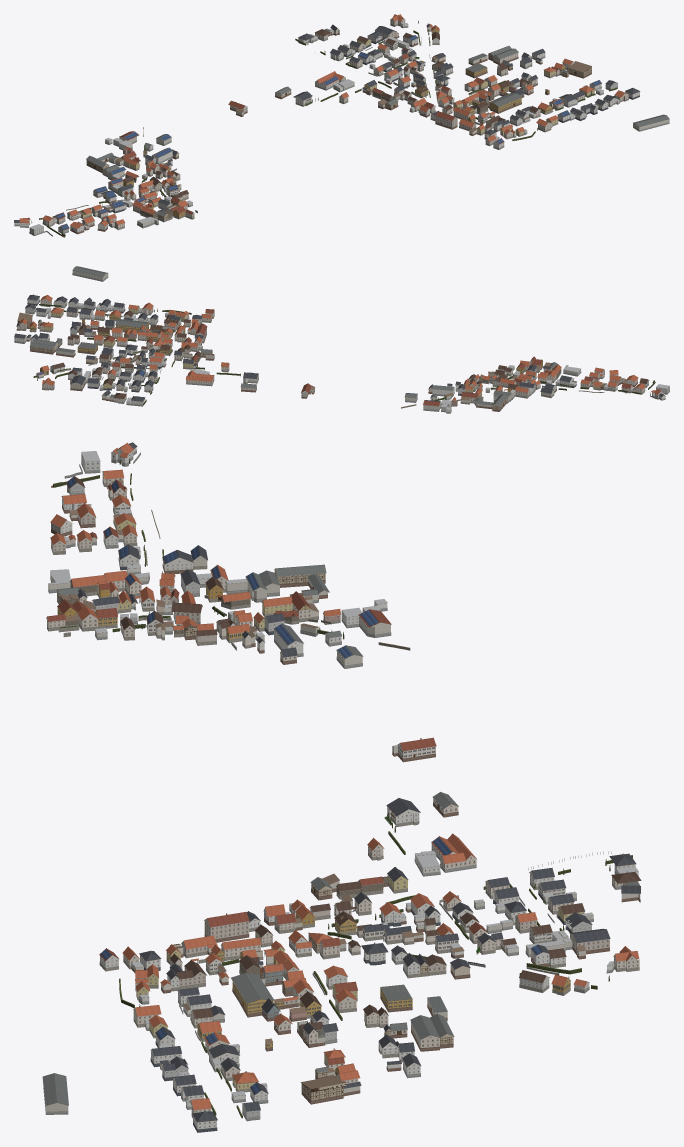
The model's file is village_north.glb.
3 renders of one model, top to bottom at view 1: azimuth 30°, elevation 25°; view 2: azimuth 150°, elevation 25°; view 3: azimuth 270°, elevation 25°, orthographic. The views are drawn at different scales.
Visible parts, largest first — view 1: village_north; view 2: village_north; view 3: village_north.
Boxes of the visible parts, box(x1,y1,x2,y2) form: village_north: box(14, 14, 669, 237); village_north: box(14, 266, 669, 413); village_north: box(42, 442, 641, 1132).
Bounding box in the file's own units: 912 × 64.64 × 382.
43 materials, 39 textured.
